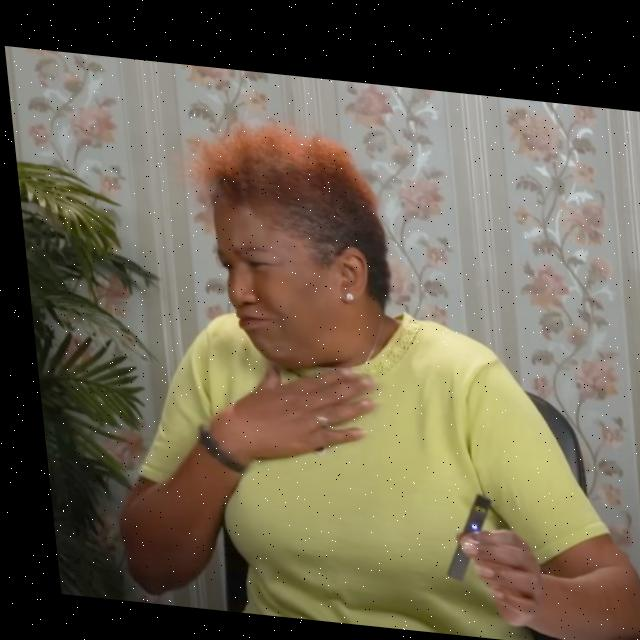vape: (427, 481, 490, 577)
